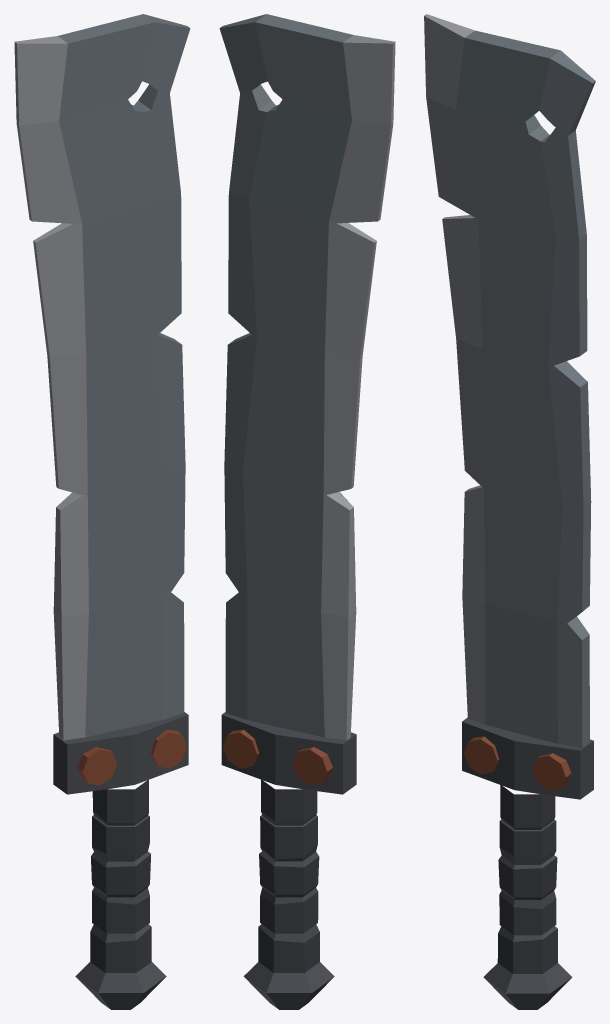
File: Machete.glb
The picture shows the model from 3 angles, left to right: view 1: azimuth 30°, elevation 25°; view 2: azimuth 150°, elevation 25°; view 3: azimuth 330°, elevation 25°; orthographic projection. The views are drawn at different scales.
Visible parts, largest first — view 1: Machete; view 2: Machete; view 3: Machete.
Boxes of the visible parts, x1=… form: Machete: x1=14, y1=14, x2=190, y2=1009; Machete: x1=219, y1=14, x2=395, y2=1009; Machete: x1=424, y1=14, x2=595, y2=1009.
Bounding box in the file's own units: 0.1611 × 0.8767 × 0.0735.
Materials: 1 (1 with a texture image).
